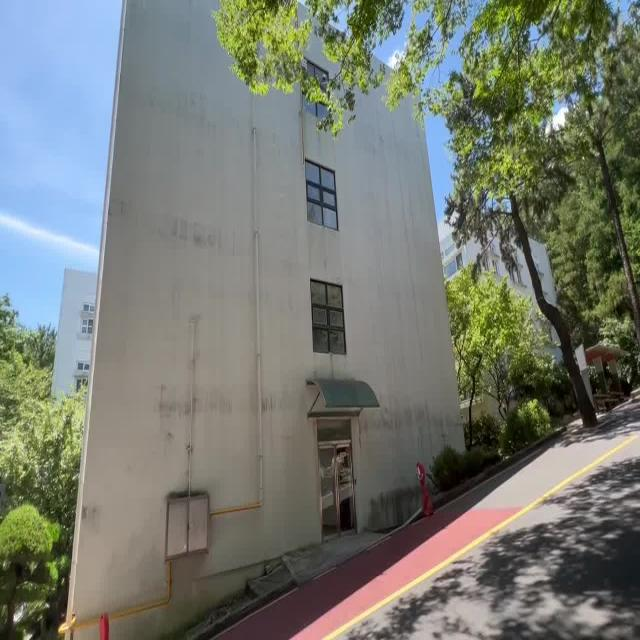building: (71, 88, 473, 537)
